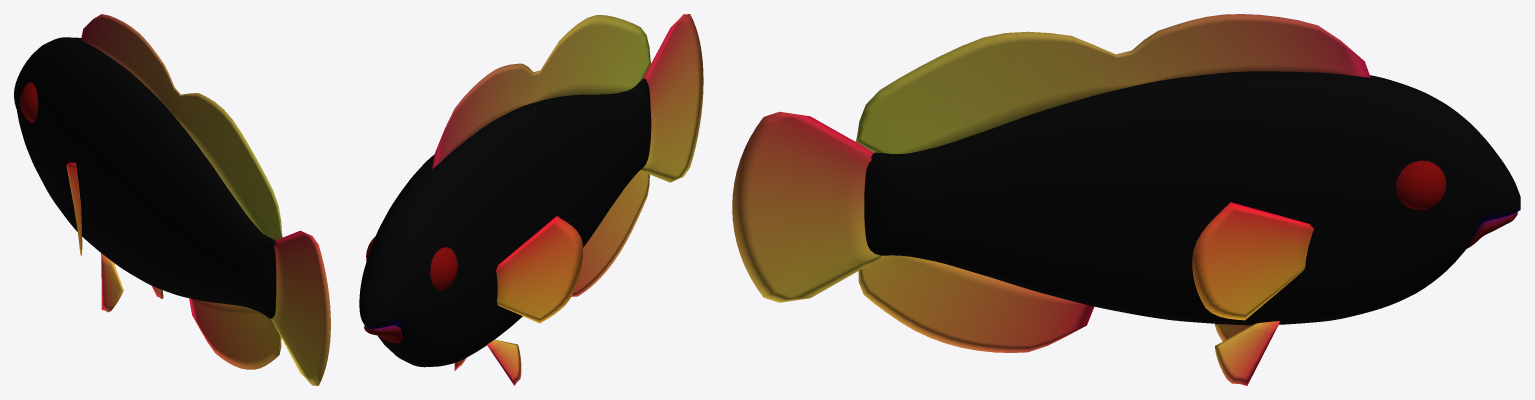
File: clownfish.glb
The picture shows the model from 3 angles, left to right: view 1: azimuth 30°, elevation 25°; view 2: azimuth 150°, elevation 25°; view 3: azimuth 270°, elevation 25°; orthographic projection. The views are drawn at different scales.
Parts seen in each view (by area): view 1: clownfish; view 2: clownfish; view 3: clownfish.
Boxes of the visible parts, x1,y1,x2,y2 form: clownfish: (14, 14, 330, 385); clownfish: (359, 14, 703, 385); clownfish: (732, 14, 1520, 385).
Bounding box in the file's own units: 0.023 × 0.0441 × 0.0888.
